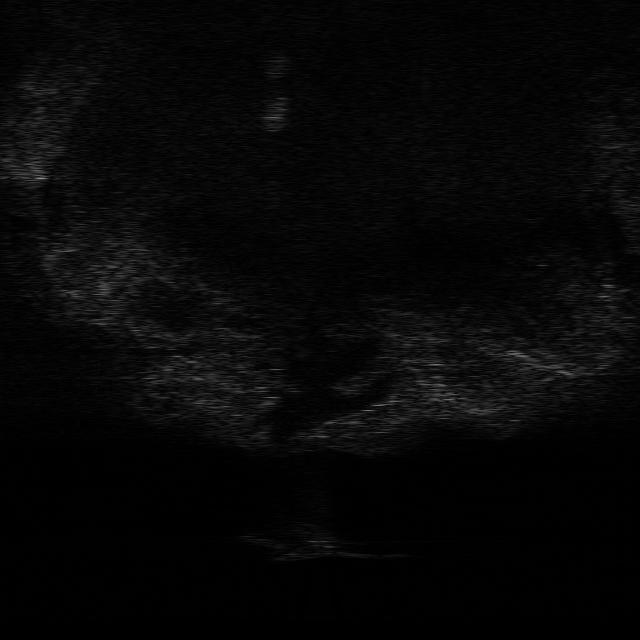plane: (242, 524, 402, 564)
